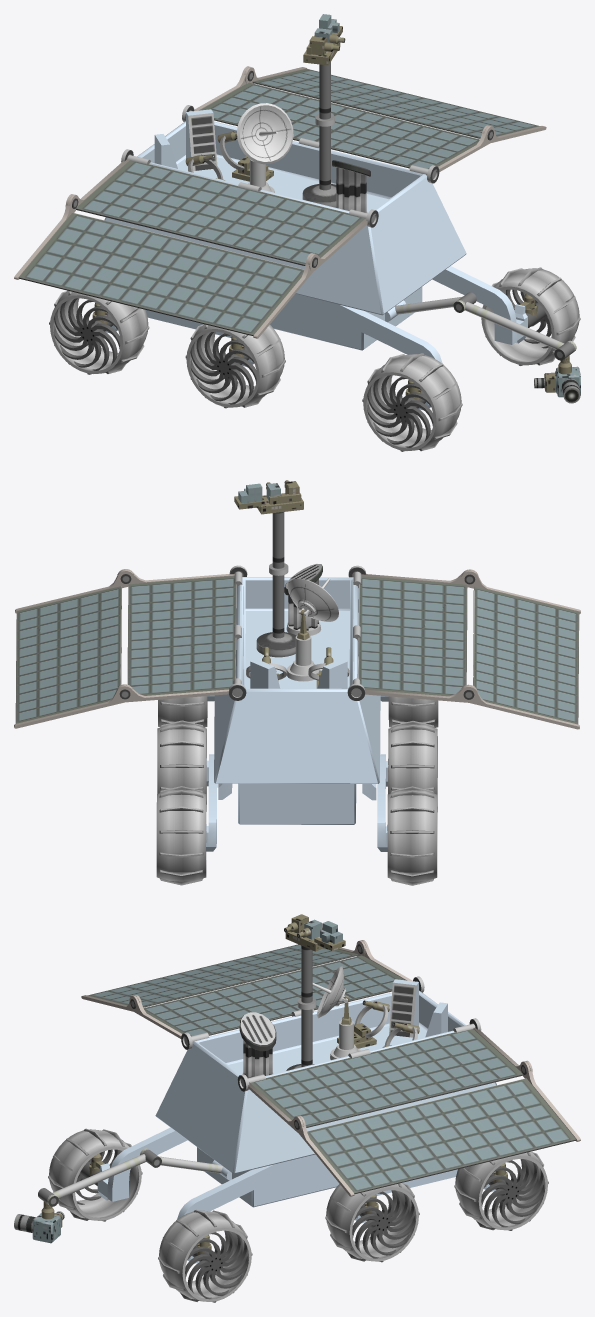
The model's file is yutu.glb.
3 renders of one model, top to bottom at view 1: azimuth 30°, elevation 25°; view 2: azimuth 150°, elevation 25°; view 3: azimuth 270°, elevation 25°, orthographic. The views are drawn at different scales.
Parts seen in each view (by area): view 1: Yutu (×2); view 2: Yutu (×2); view 3: Yutu (×2).
Boxes of the visible parts, left/top/right/bottom form: Yutu (×2): left=14, top=14, right=580, bottom=451; Yutu (×2): left=14, top=480, right=580, bottom=885; Yutu (×2): left=14, top=914, right=580, bottom=1302.
Size of the model in its own units: 1.06 by 0.6066 by 1.
2 materials, 1 textured.
